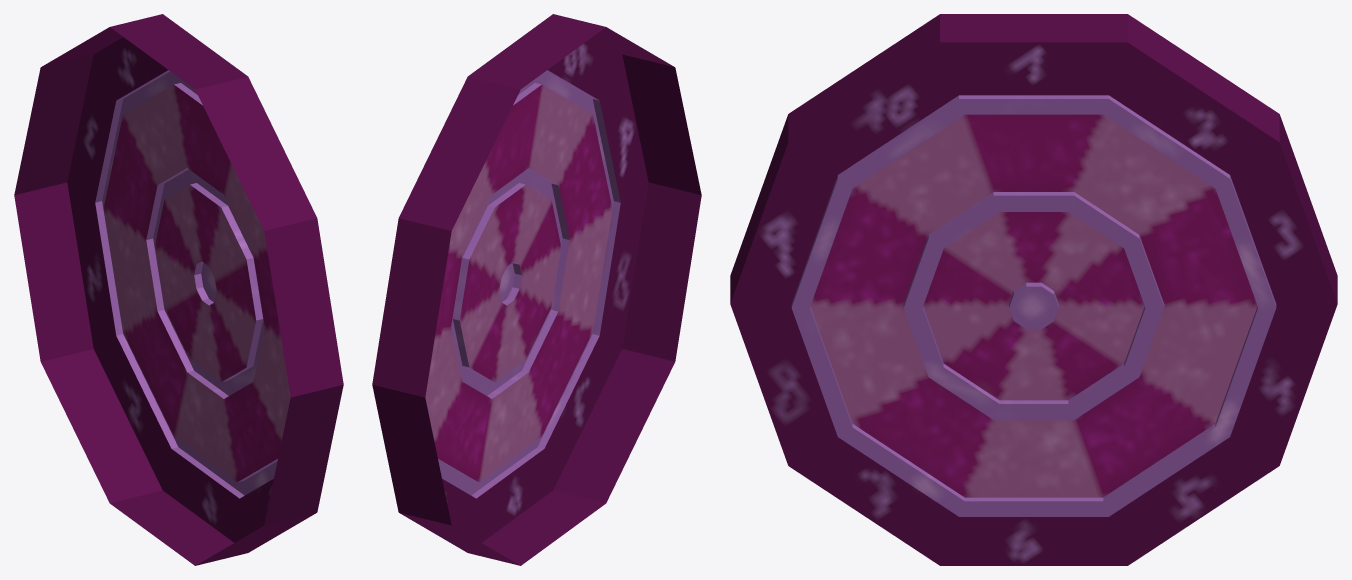
The model's file is PROP_045_Dartboard.fbx.
3 renders of one model, left to right at view 1: azimuth 30°, elevation 25°; view 2: azimuth 150°, elevation 25°; view 3: azimuth 270°, elevation 25°, orthographic. The views are drawn at different scales.
Parts seen in each view (by area): view 1: Diana; view 2: Diana; view 3: Diana.
Boxes of the visible parts, x1,y1,x2,y2 form: Diana: (14,14,343,565); Diana: (372,14,701,565); Diana: (730,14,1337,565).
Size of the model in its own units: 0.0861 by 0.653 by 0.6866.
1 material, 1 textured.
